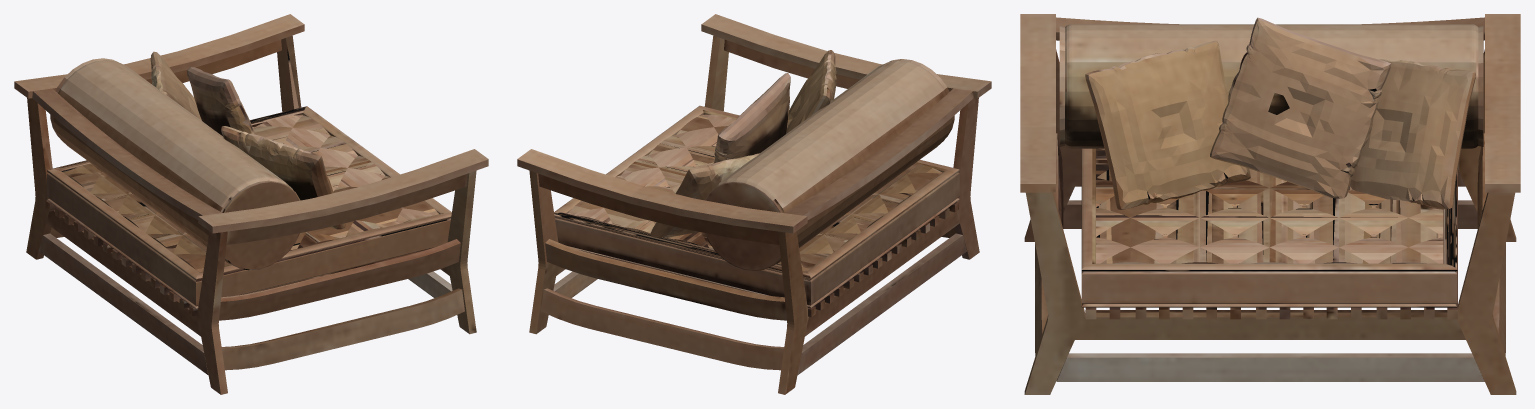
The picture shows the model from 3 angles, left to right: view 1: azimuth 30°, elevation 25°; view 2: azimuth 150°, elevation 25°; view 3: azimuth 270°, elevation 25°; orthographic projection. The views are drawn at different scales.
Visible parts, largest first — view 1: Node; view 2: Node; view 3: Node.
Part boxes in pixels (box(x1,y1,x2,y2)): Node: box(14, 14, 488, 394); Node: box(517, 14, 991, 394); Node: box(1020, 14, 1520, 394).
Size of the model in its own units: 0.5625 by 0.4335 by 0.7.
1 material, 1 textured.
